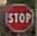stop: (2, 3, 34, 32)
